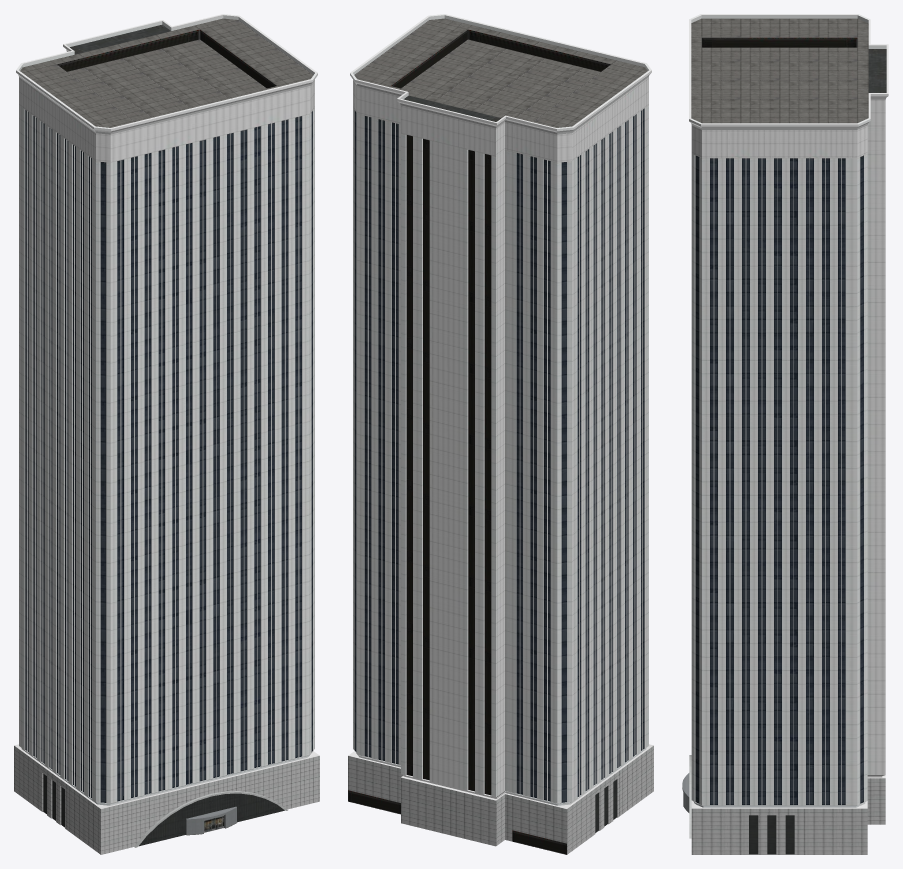
The model's file is office-l9.glb.
The picture shows the model from 3 angles, left to right: view 1: azimuth 30°, elevation 25°; view 2: azimuth 150°, elevation 25°; view 3: azimuth 270°, elevation 25°; orthographic projection.
Visible parts, largest first — view 1: torrepicasso_torrepicasso_0; view 2: torrepicasso_torrepicasso_0; view 3: torrepicasso_torrepicasso_0.
Boxes of the visible parts, bbox=[...] form: torrepicasso_torrepicasso_0: bbox=[14, 14, 319, 854]; torrepicasso_torrepicasso_0: bbox=[348, 14, 653, 854]; torrepicasso_torrepicasso_0: bbox=[682, 14, 888, 854].
Size of the model in its own units: 51.15 by 158 by 40.43.
1 material, 1 textured.
